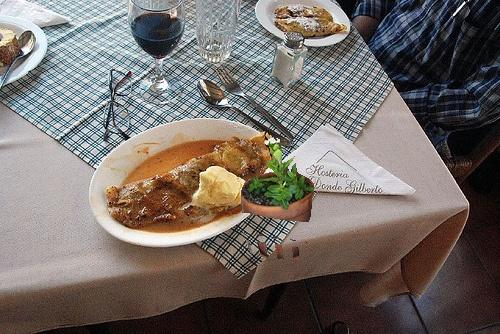tampered: (242, 138, 314, 261)
